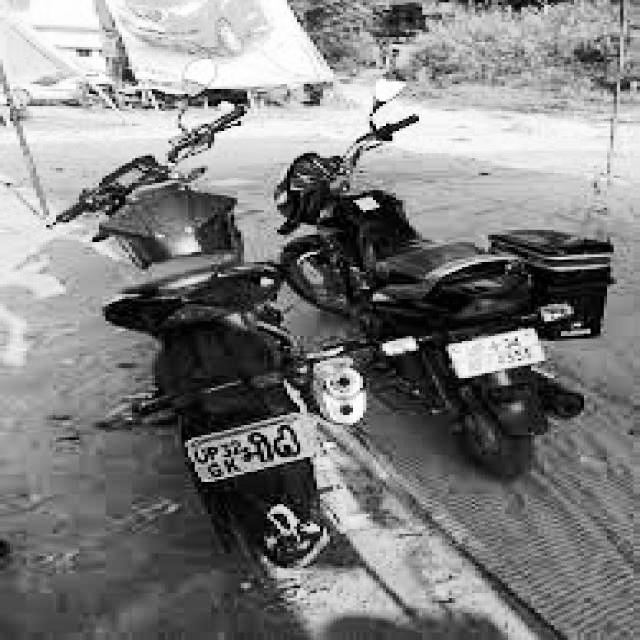Bike: (30, 159, 386, 607), (283, 126, 635, 482)
